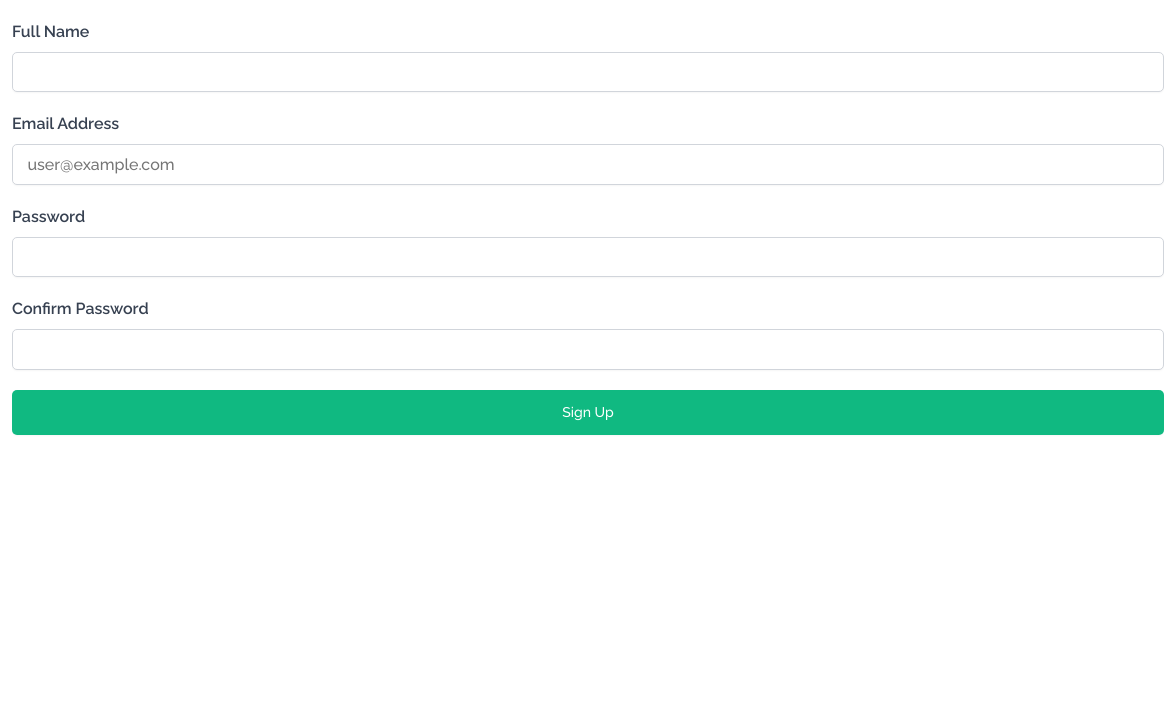
it: CreateUserForm › should show error messages if required input values are not provided
The width and height of the screenshot is (1176, 720).
Step 1. Click the button "Sign Up" → coordinates (588, 412), box [12, 390, 1164, 434]
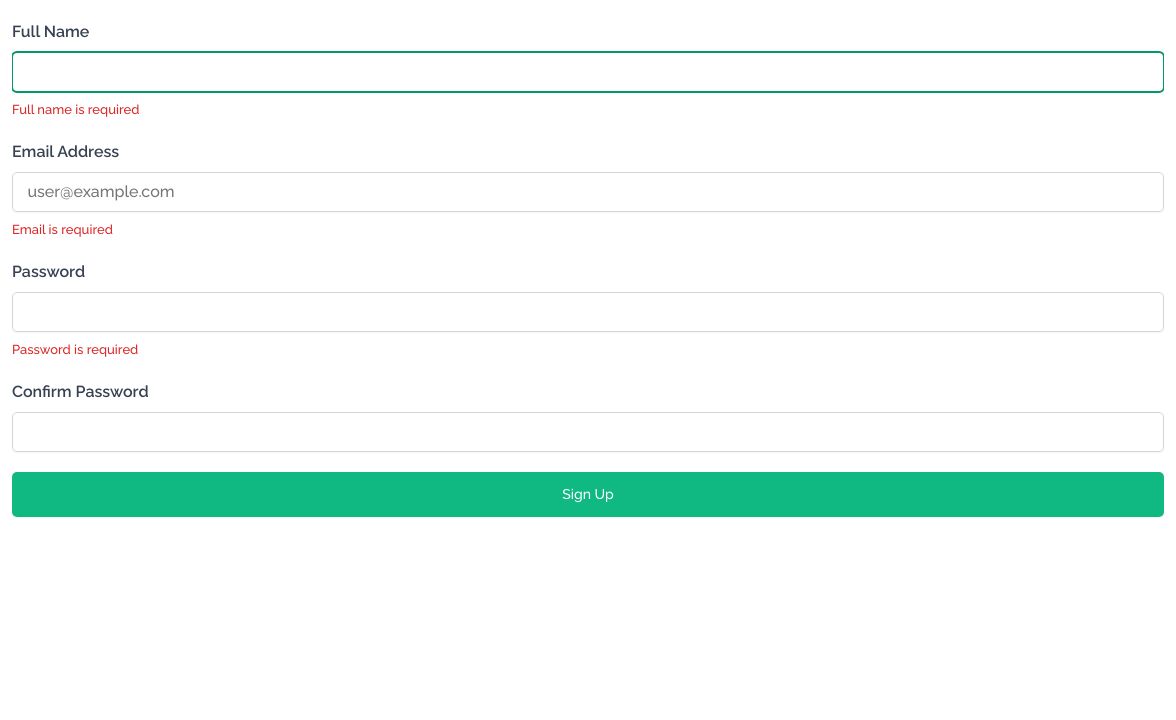
Expected: the message "Full name is required" is shown, [12, 102, 139, 117]
Expected: the message "Email is required" is shown, [12, 222, 113, 237]
Expected: the text "Password is required" is shown, [12, 342, 138, 357]
